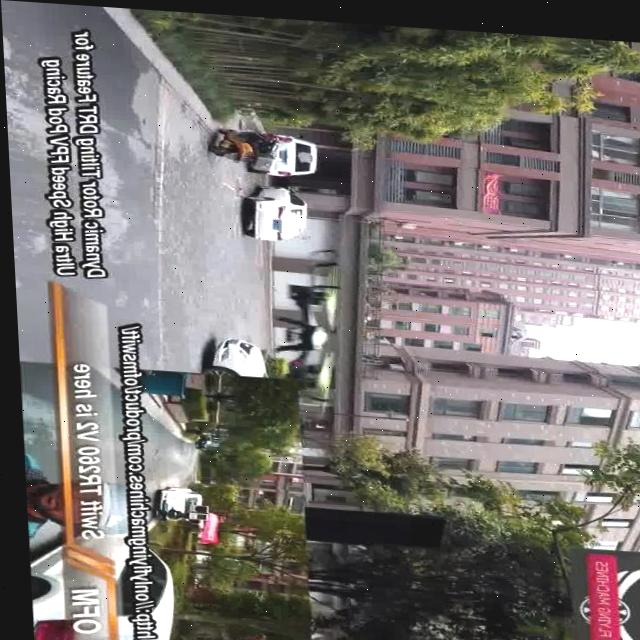drone: (260, 237, 353, 390)
